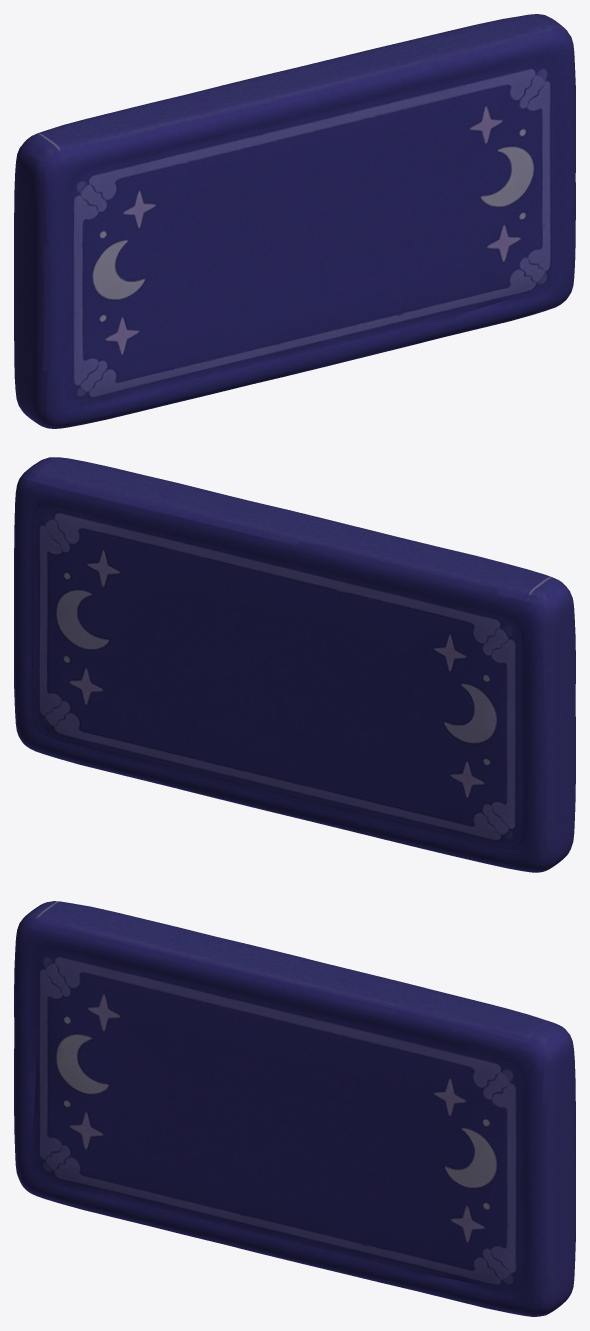
Rendered from dream-plaque.glb.
3 renders of one model, top to bottom at view 1: azimuth 30°, elevation 25°; view 2: azimuth 150°, elevation 25°; view 3: azimuth 330°, elevation 25°, orthographic.
Visible parts, largest first — view 1: dream-plaque; view 2: dream-plaque; view 3: dream-plaque.
Part boxes in pixels (box(x1,y1,x2,y2)): dream-plaque: box(14, 14, 575, 428); dream-plaque: box(14, 457, 575, 872); dream-plaque: box(14, 901, 575, 1316).
Size of the model in its own units: 1.9 by 0.9571 by 0.2397.
1 material, 1 textured.
